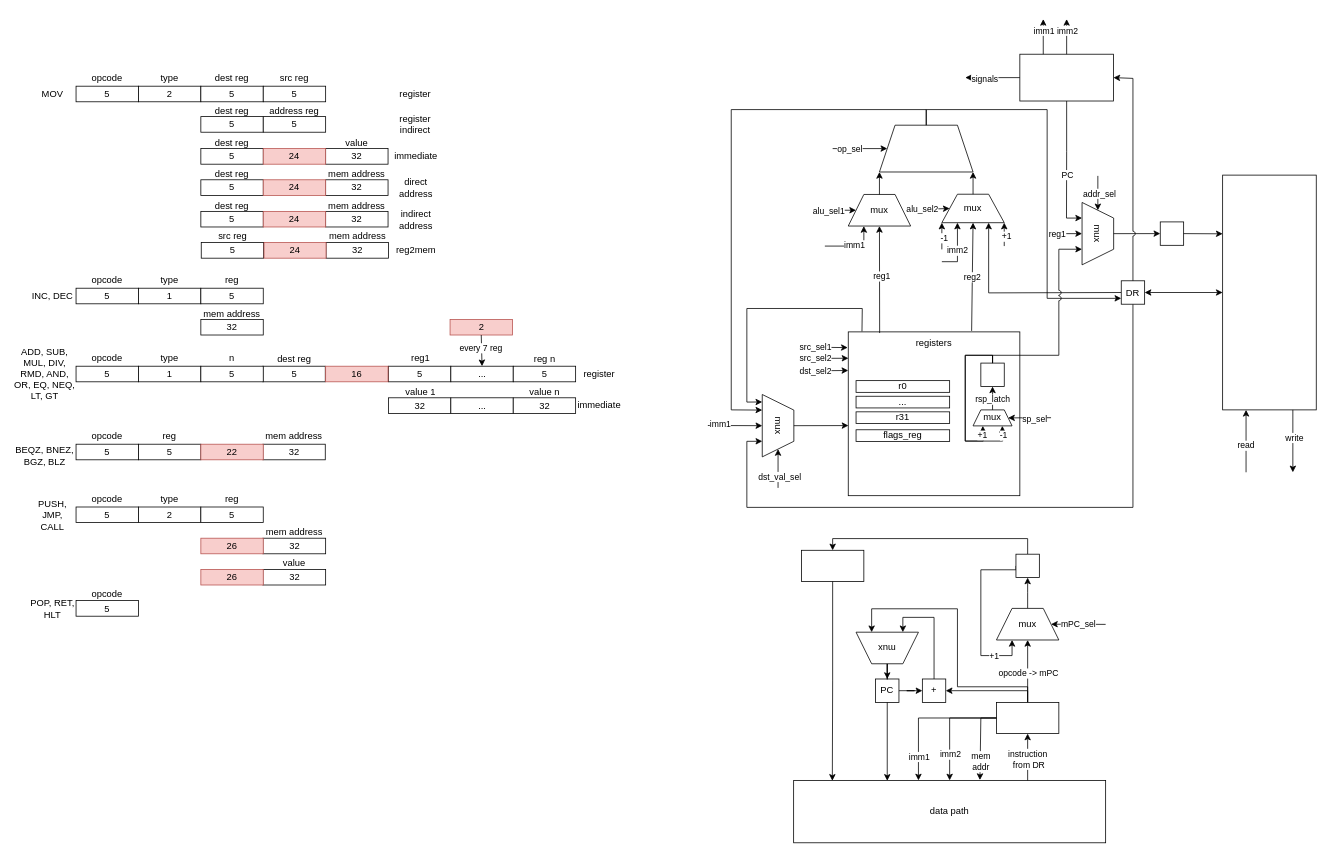
Image size: 1330x856. Some labels were removed from this diagram. Here are the shapes that lost their labels. From the top down, the box of each, then its label:
(1019, 53, 1113, 101): control unit
(879, 124, 973, 172): ALU
(1159, 221, 1184, 245): AR
(1222, 174, 1316, 410): memory
(980, 362, 1004, 386): RSP
(801, 550, 864, 581): mProgram memory
(1015, 553, 1039, 578): mPC
(996, 702, 1059, 734): instruction decoder
